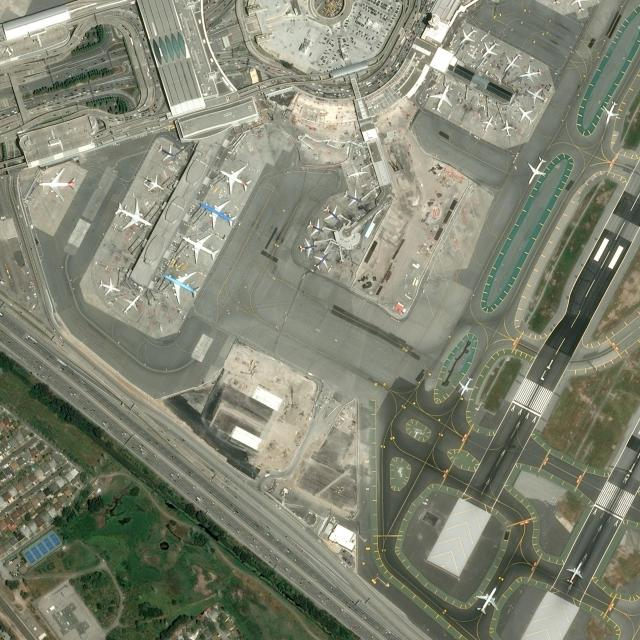aircraft: (198, 198, 237, 232), (114, 198, 152, 230), (38, 168, 76, 200), (163, 271, 202, 301), (180, 233, 220, 262), (220, 167, 255, 195), (429, 83, 453, 113), (474, 588, 500, 612), (526, 156, 546, 184), (602, 98, 620, 126), (565, 560, 583, 585), (121, 294, 141, 314), (142, 175, 164, 191), (458, 26, 476, 44), (98, 279, 117, 295), (502, 54, 520, 70), (157, 144, 175, 160), (529, 86, 546, 102), (518, 106, 532, 125), (479, 40, 495, 54), (482, 115, 492, 133), (501, 120, 512, 135)
